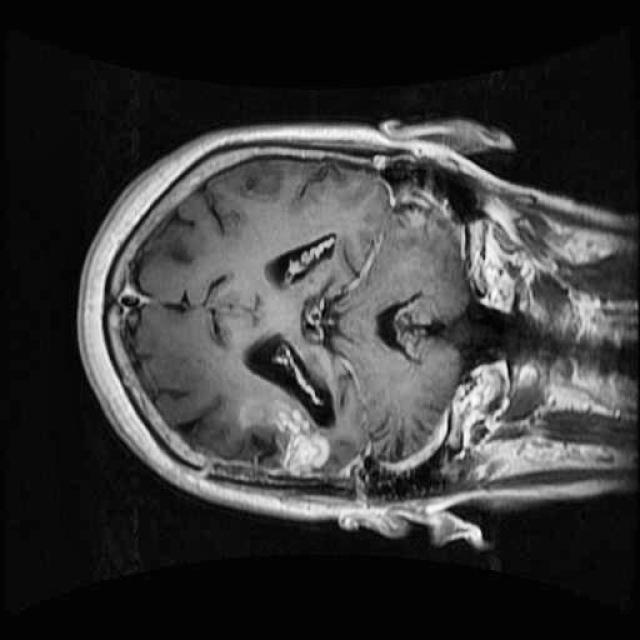Tumor: (215, 368, 354, 507)
